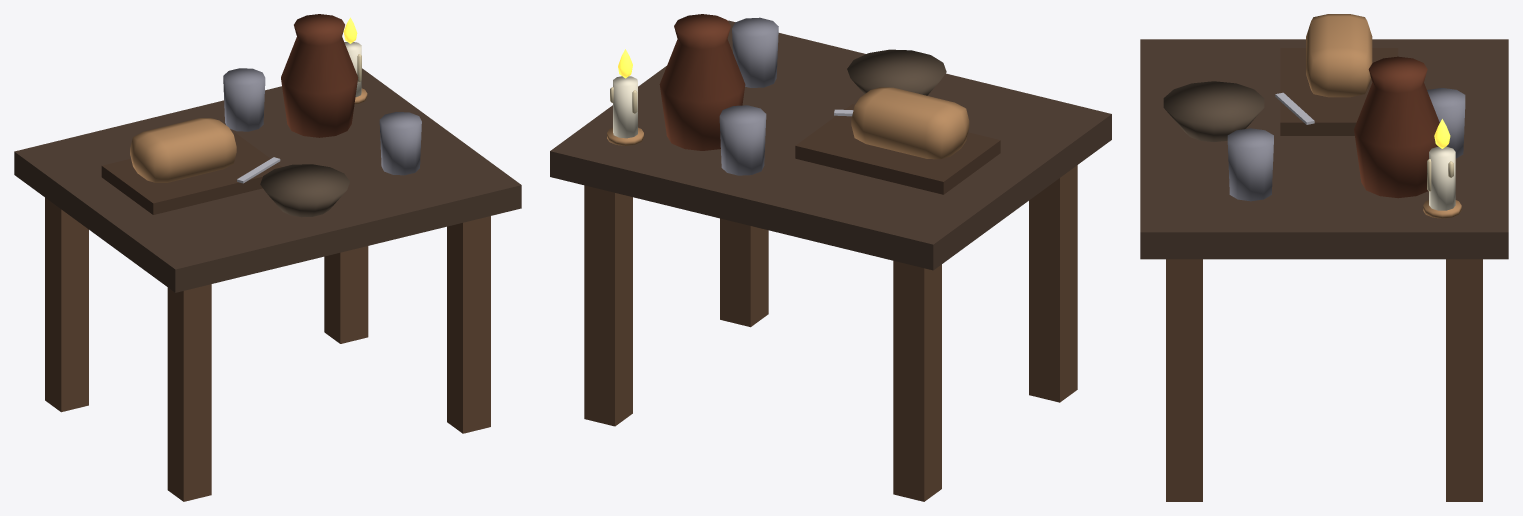
Rendered from table_meal.glb.
The picture shows the model from 3 angles, left to right: view 1: azimuth 30°, elevation 25°; view 2: azimuth 150°, elevation 25°; view 3: azimuth 270°, elevation 25°; orthographic projection. The views are drawn at different scales.
Parts seen in each view (by area): view 1: table_meal; view 2: table_meal; view 3: table_meal.
Part boxes in pixels (x1,y1,x2,y2): table_meal: [14, 14, 521, 501]; table_meal: [550, 14, 1111, 501]; table_meal: [1140, 14, 1508, 501].
Size of the model in its own units: 0.62 by 0.59 by 0.5.
